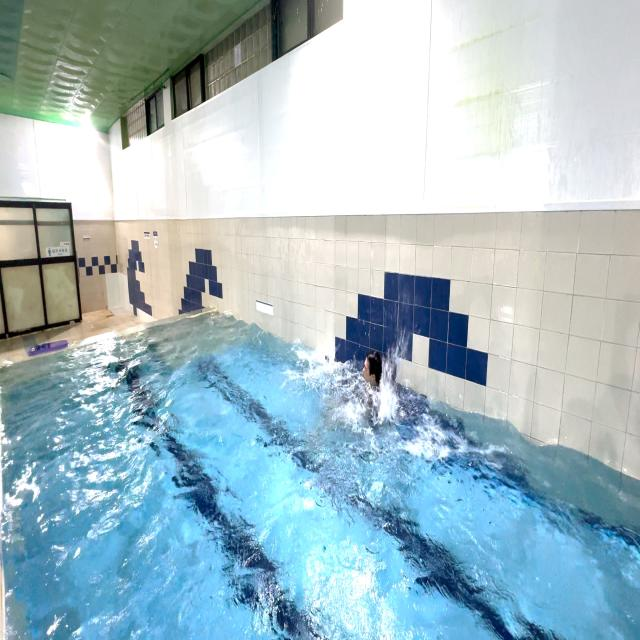Swimming: (304, 331, 403, 430)
